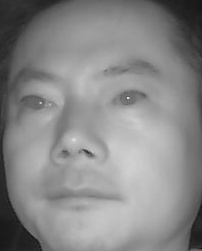eye: (17, 90, 59, 117), (109, 87, 150, 113)
mouth: (42, 176, 122, 218)
